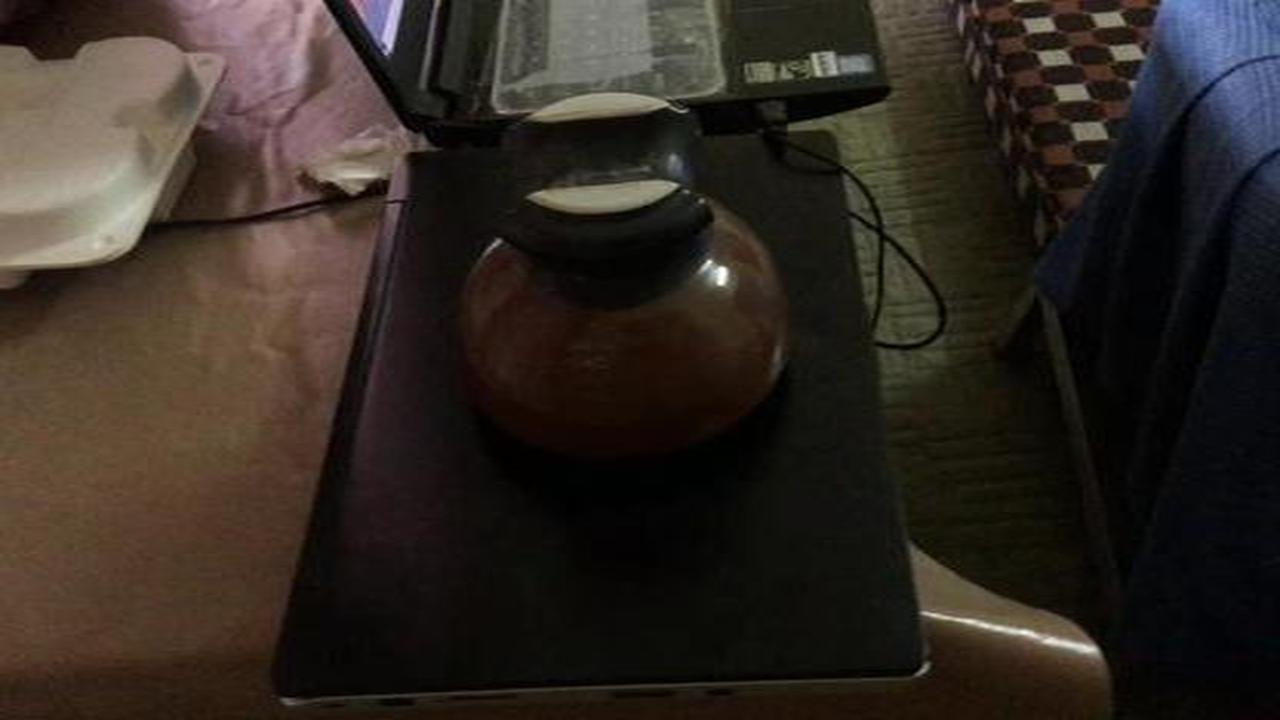insulator_pin: (431, 82, 816, 482)
